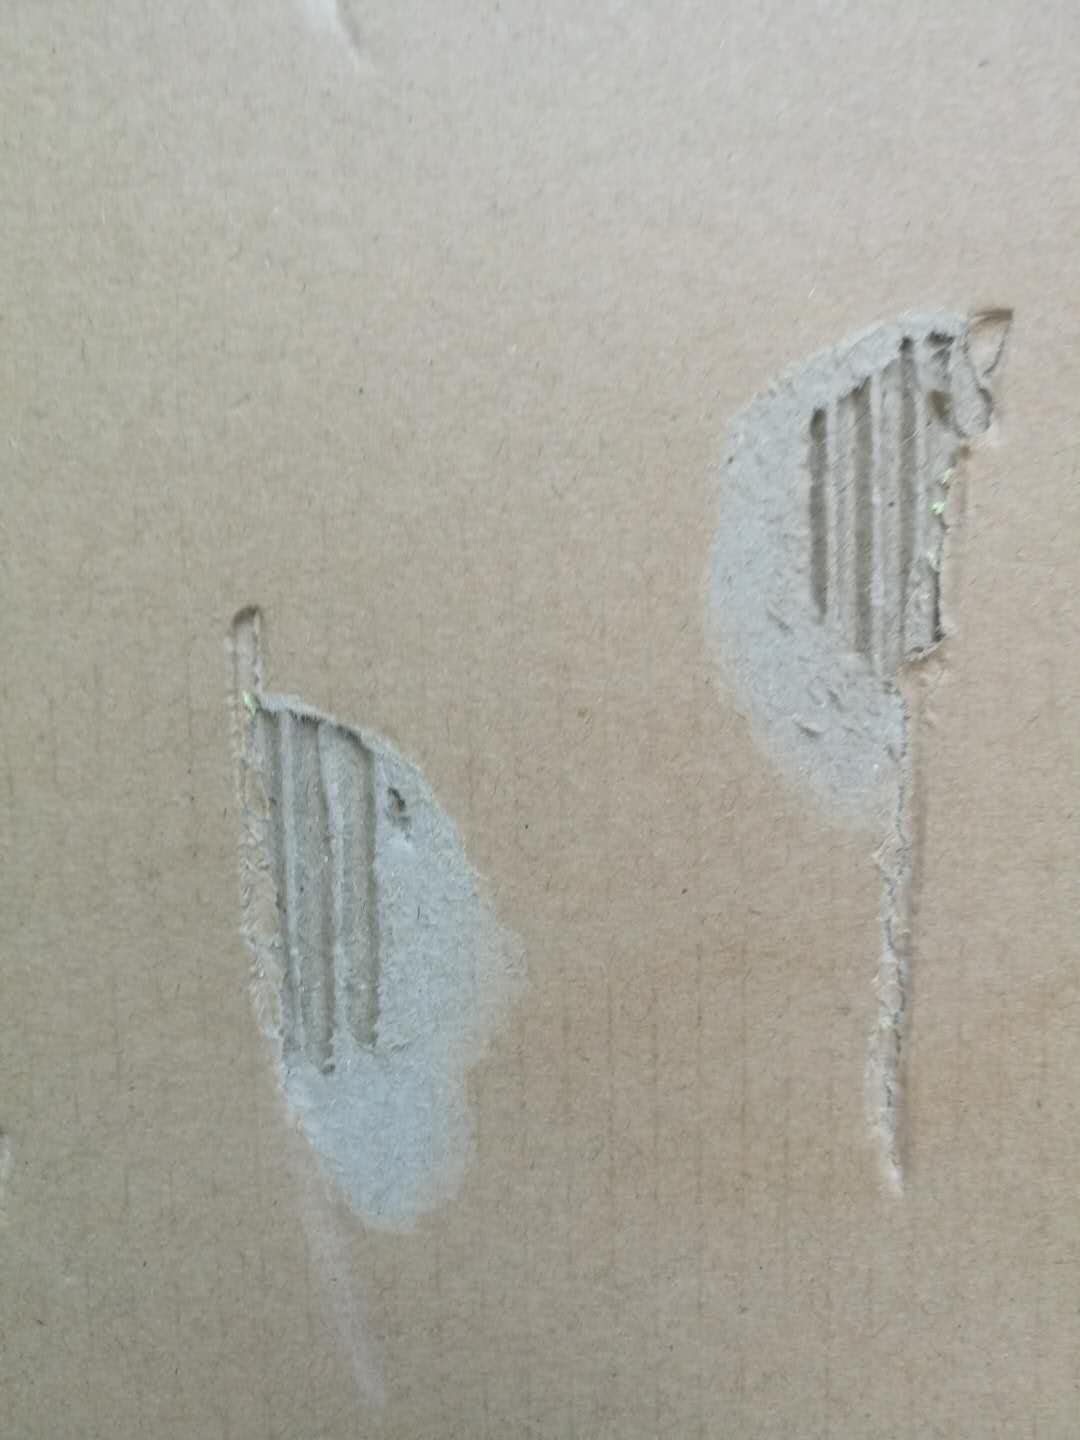defect: (670, 264, 1033, 1236), (175, 575, 572, 1433), (307, 1, 385, 76)
